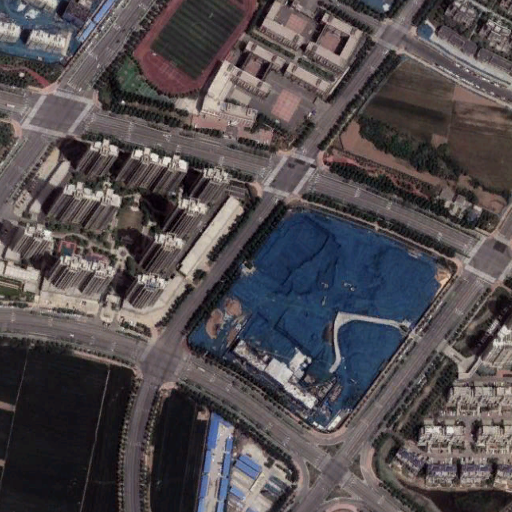cw: (189, 204, 455, 436)
